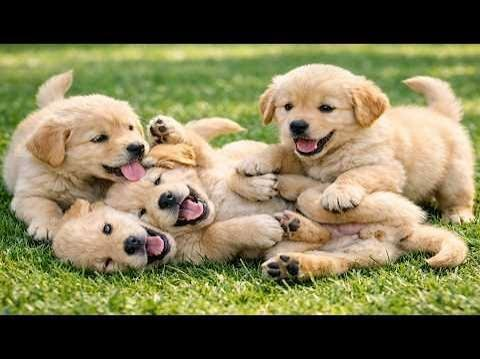puppy-dog: (135, 115, 469, 282), (230, 64, 476, 226), (50, 176, 332, 271), (5, 68, 153, 243)
